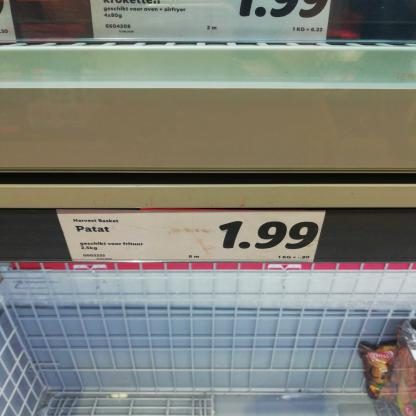prtg: (56, 210, 326, 264), (91, 1, 332, 44)
